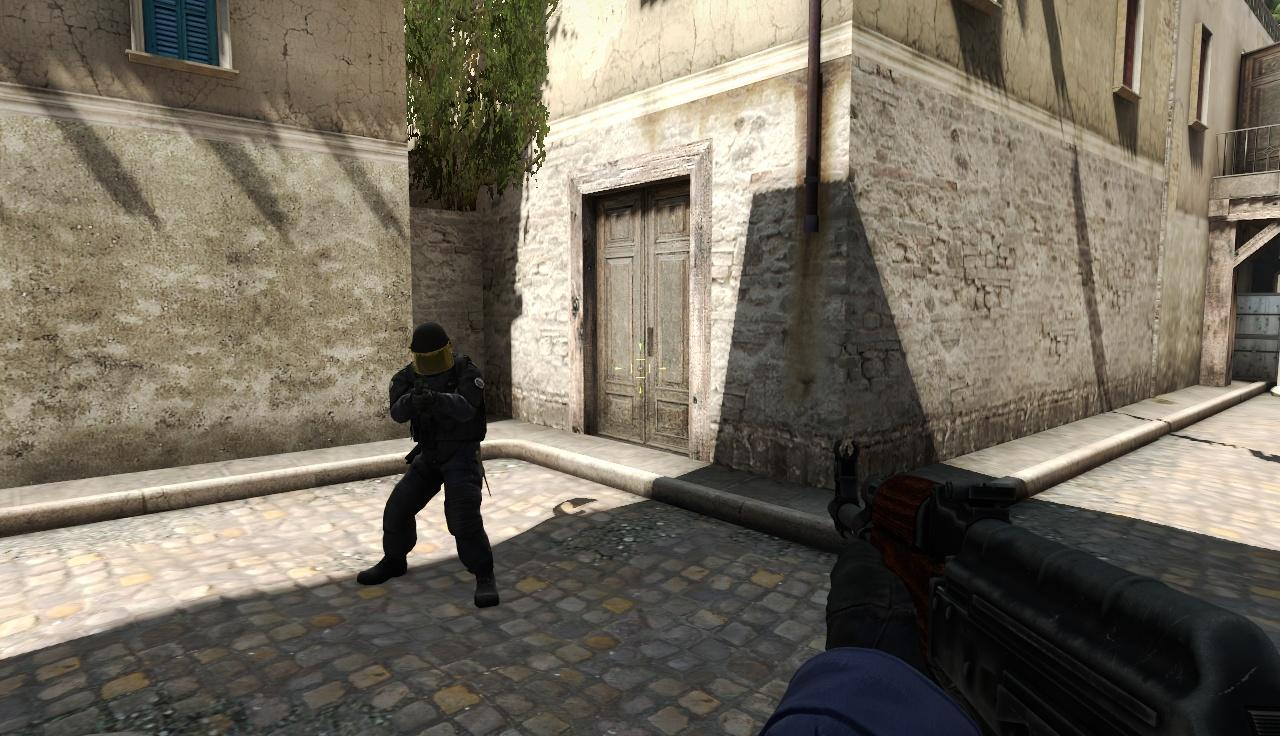ct: (394, 323, 487, 605)
cthead: (412, 325, 452, 370)
rifle: (818, 418, 1280, 736)
